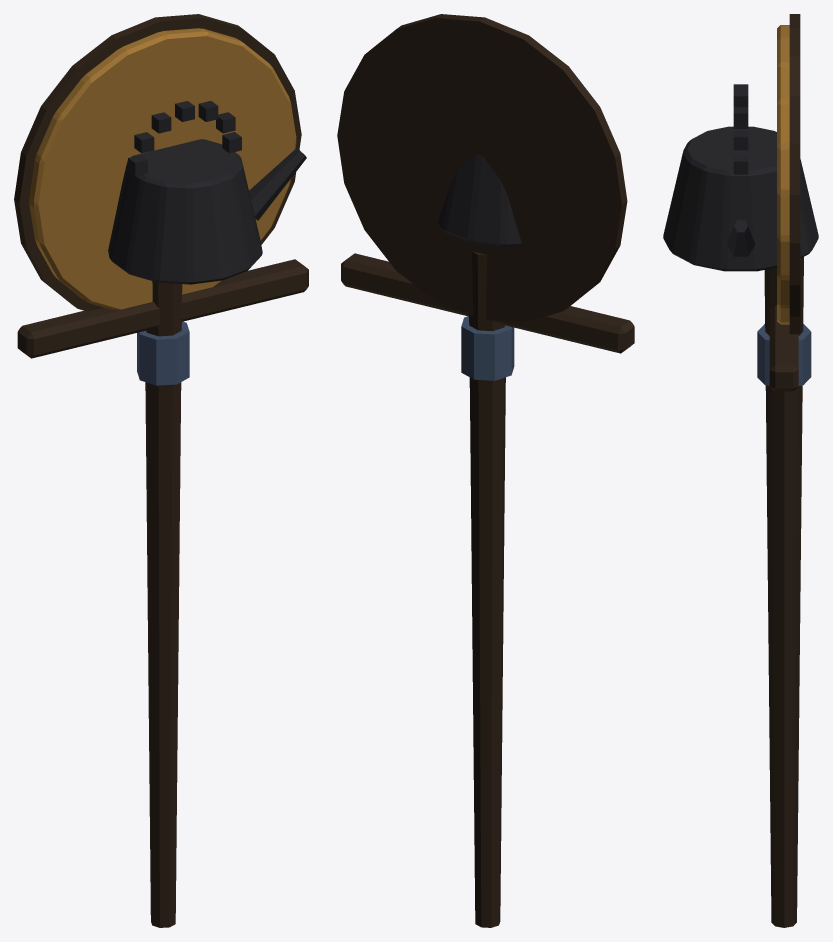
Rendered from sign_tinker.glb.
The picture shows the model from 3 angles, left to right: view 1: azimuth 30°, elevation 25°; view 2: azimuth 150°, elevation 25°; view 3: azimuth 270°, elevation 25°; orthographic projection.
Visible parts, largest first — view 1: sign_tinker; view 2: sign_tinker; view 3: sign_tinker.
Part boxes in pixels (bbox=[...]): sign_tinker: bbox=[14, 14, 308, 927]; sign_tinker: bbox=[337, 14, 634, 927]; sign_tinker: bbox=[663, 14, 818, 927].
Size of the model in its own units: 1.39 by 4.25 by 0.6686.
